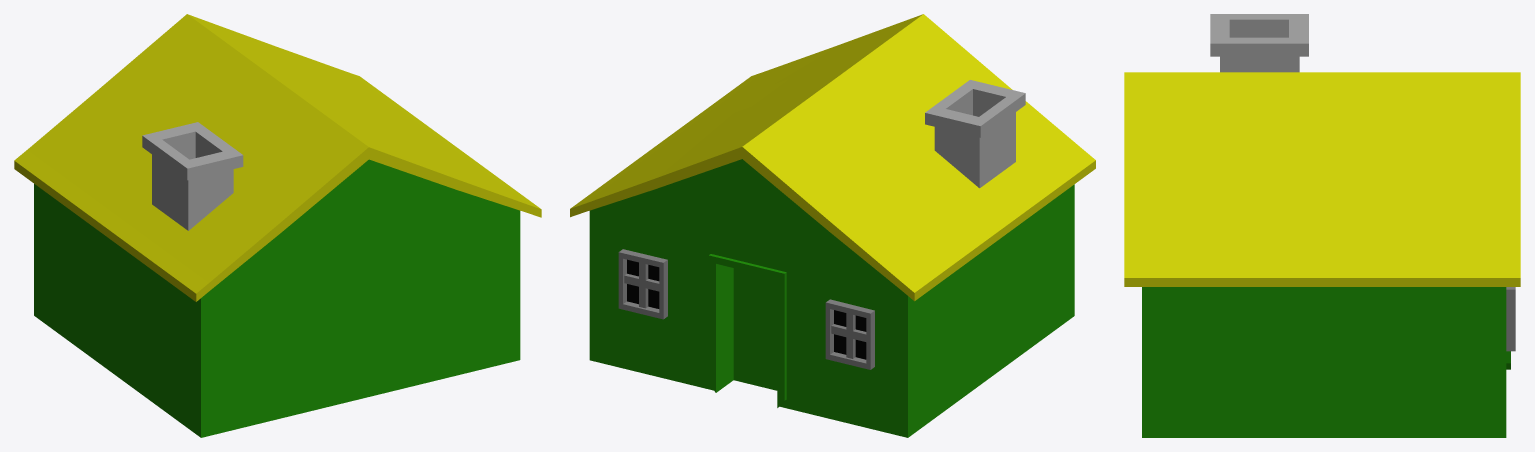
The model's file is housetest.fbx.
3 views of the same model, side by side, from view 1: azimuth 30°, elevation 25°; view 2: azimuth 150°, elevation 25°; view 3: azimuth 270°, elevation 25° (orthographic). The views are drawn at different scales.
Parts seen in each view (by area): view 1: House1; view 2: House1; view 3: House1.
Boxes of the visible parts, box(x1,y1,x2,y2) form: House1: box(14, 14, 541, 437); House1: box(570, 14, 1095, 437); House1: box(1124, 14, 1520, 437).
Size of the model in its own units: 0.056 by 0.0399 by 0.0511.
